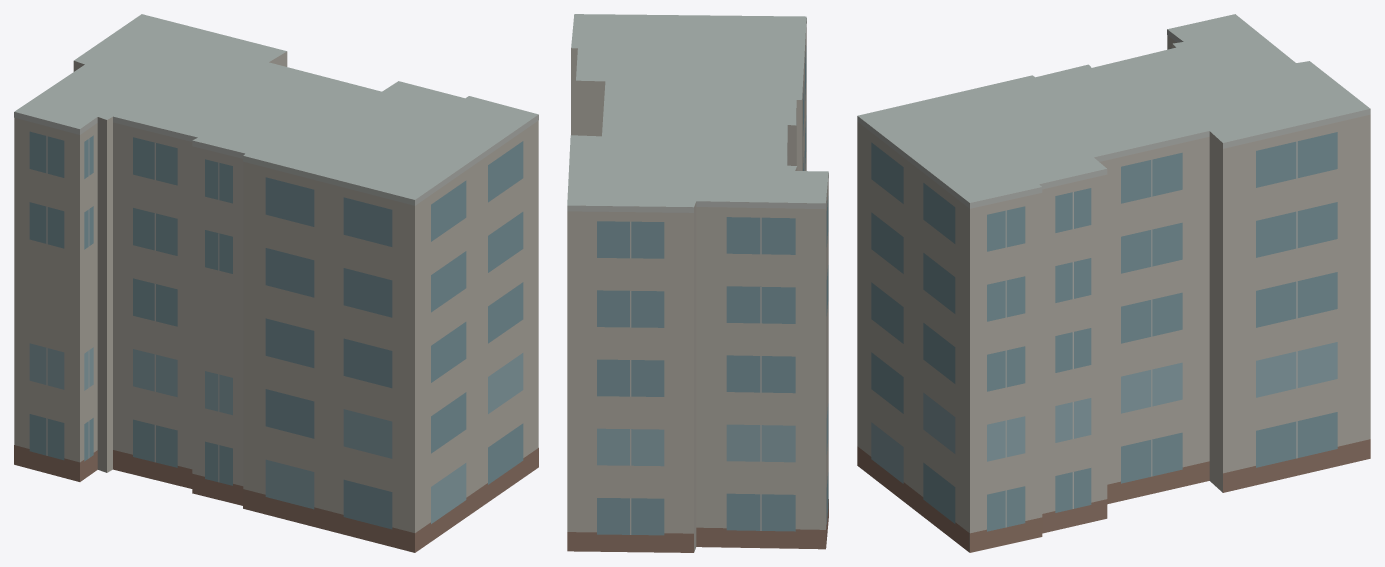
File: survey-upis-32972036.glb
3 renders of one model, left to right at view 1: azimuth 30°, elevation 25°; view 2: azimuth 150°, elevation 25°; view 3: azimuth 270°, elevation 25°, orthographic. The views are drawn at different scales.
Parts seen in each view (by area): view 1: survey-upis-32972036.tmp; view 2: survey-upis-32972036.tmp; view 3: survey-upis-32972036.tmp.
Part boxes in pixels (x1=…): survey-upis-32972036.tmp: x1=14, y1=14, x2=538, y2=552; survey-upis-32972036.tmp: x1=567, y1=14, x2=828, y2=552; survey-upis-32972036.tmp: x1=857, y1=14, x2=1370, y2=552.
Bounding box in the file's own units: 17.04 × 14.7 × 19.56.
